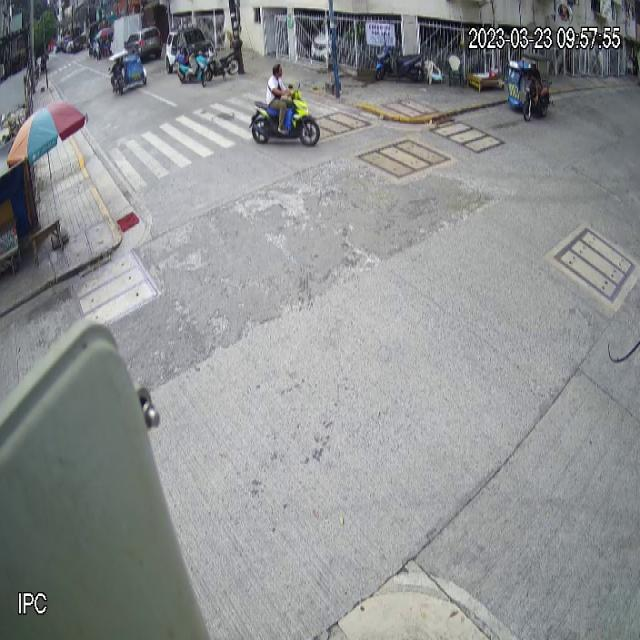Motorcycle: (249, 81, 321, 148)
Tricycle: (505, 52, 555, 123)
